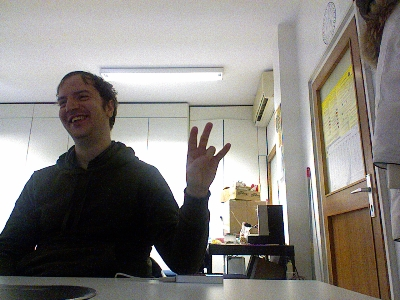观音: (184, 120, 231, 192)
